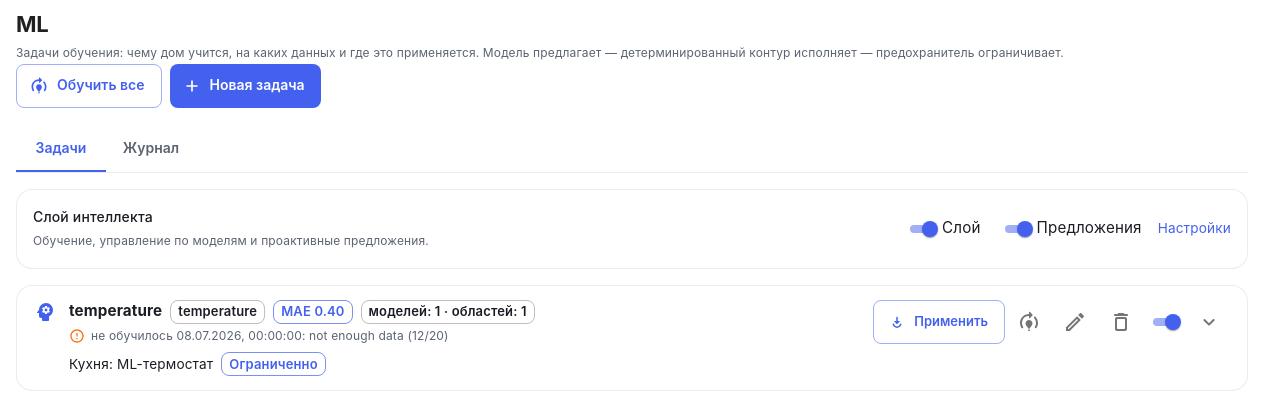
Test: ML hub (Models page, Epic 2P) › shows the activity feed on the Journal tab (Epic 3I)
The image size is (1265, 408).
Click the tab "Журнал" at [151, 148], box [106,124,196,172]
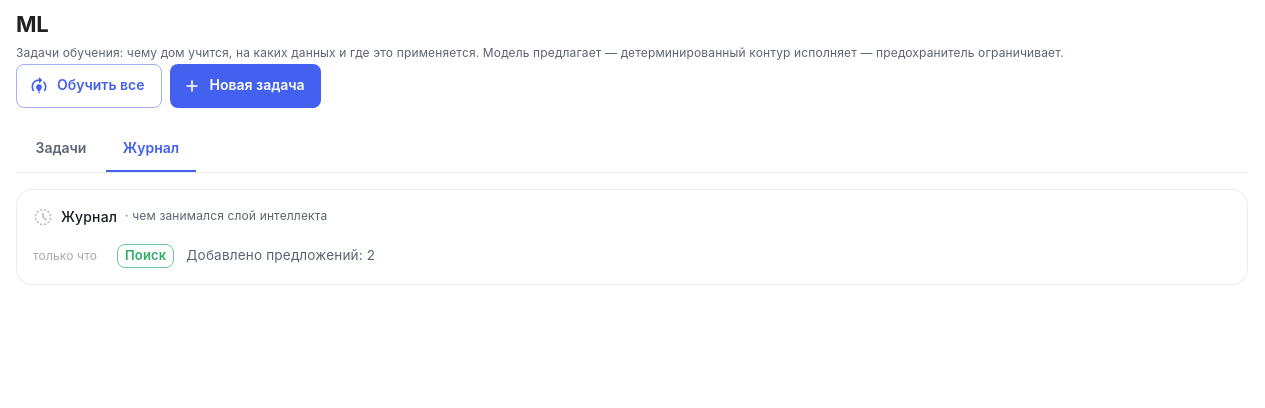
Check: the text "Добавлено предложений: 2" is shown, box [186,246,375,266]
